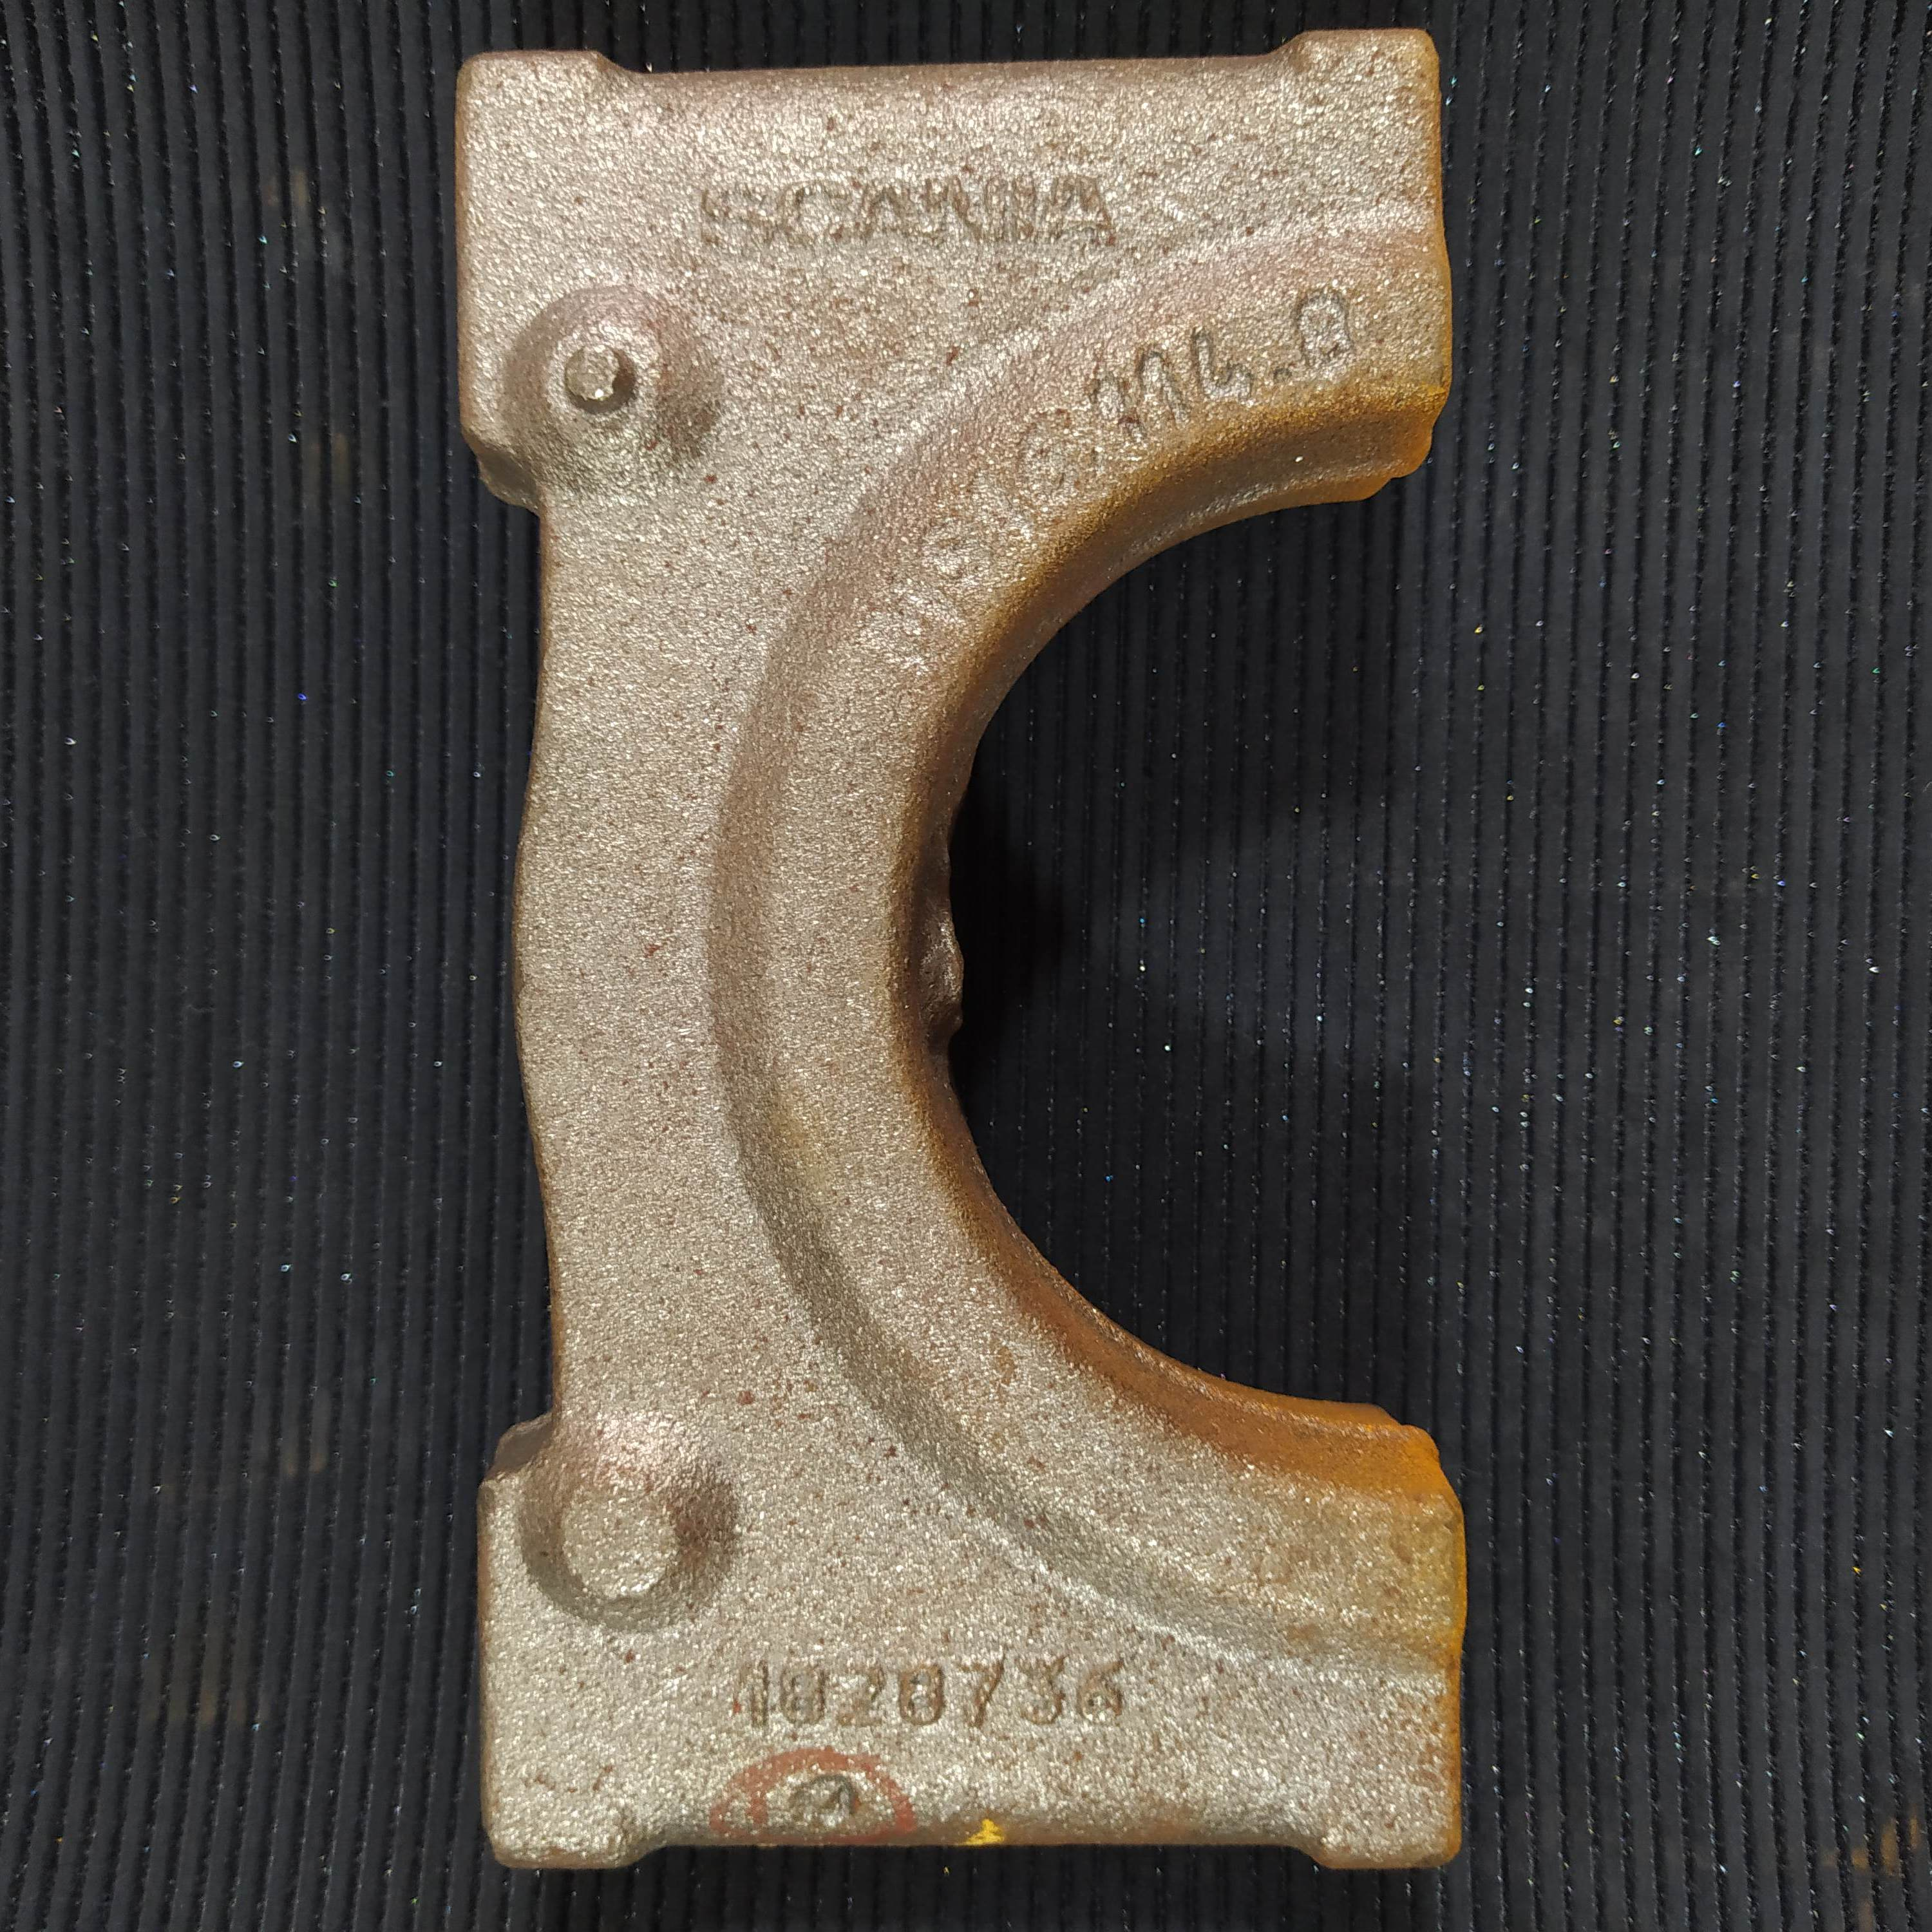buraco: (789, 1771, 865, 1836)
